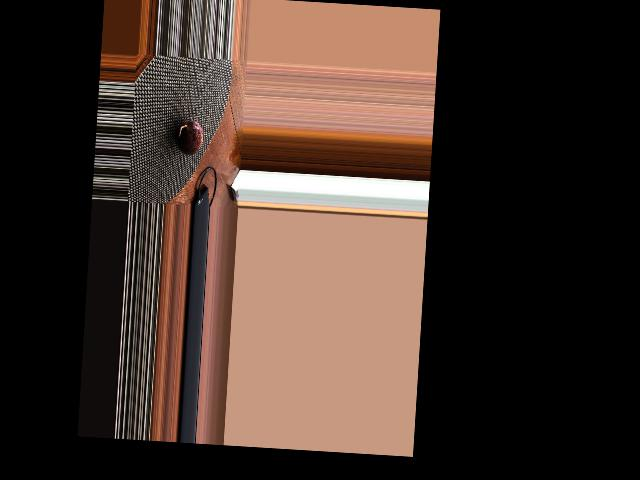beet: (175, 120, 203, 156)
